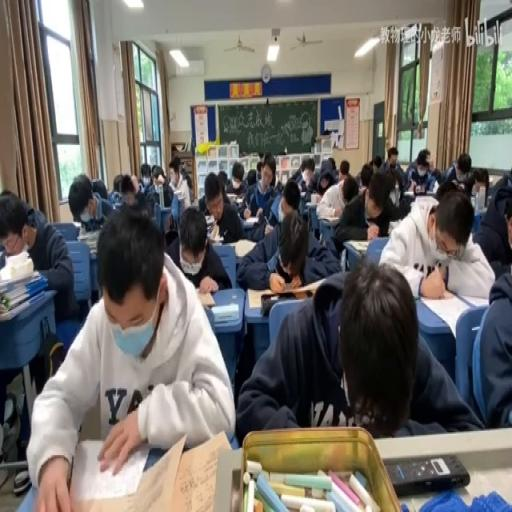calculator: (417, 289, 478, 337), (247, 279, 320, 307), (196, 284, 234, 312), (232, 236, 258, 258), (77, 228, 100, 252), (212, 310, 238, 323), (410, 192, 436, 205), (346, 239, 370, 253), (204, 215, 218, 236), (386, 219, 402, 235), (241, 215, 259, 226), (318, 213, 340, 222), (486, 175, 501, 188), (208, 234, 222, 244), (157, 184, 163, 206), (225, 192, 237, 202), (306, 199, 318, 209), (190, 199, 200, 209), (72, 220, 82, 230), (299, 190, 308, 198)
paper: (32, 202, 234, 508), (234, 256, 476, 439), (378, 186, 494, 299), (1, 188, 77, 324), (237, 200, 340, 292), (469, 244, 511, 430), (197, 171, 245, 246), (330, 174, 368, 250), (68, 174, 110, 234), (402, 146, 434, 192), (166, 156, 192, 208), (440, 149, 474, 188), (298, 156, 330, 195), (381, 145, 405, 189), (468, 165, 490, 205), (109, 172, 134, 205), (259, 150, 277, 188), (394, 185, 412, 219), (270, 194, 284, 224), (282, 189, 300, 212), (358, 162, 372, 189), (502, 205, 511, 247), (289, 161, 304, 186), (337, 158, 349, 186), (142, 185, 158, 205), (217, 170, 229, 190), (430, 166, 442, 185), (140, 164, 150, 186), (244, 168, 256, 186), (231, 171, 243, 186), (372, 155, 382, 171), (150, 165, 159, 181), (501, 170, 510, 186), (130, 174, 138, 192), (0, 189, 13, 198), (256, 159, 262, 178), (328, 155, 336, 169)
person: (385, 452, 470, 494), (413, 182, 426, 193), (234, 195, 244, 205)
